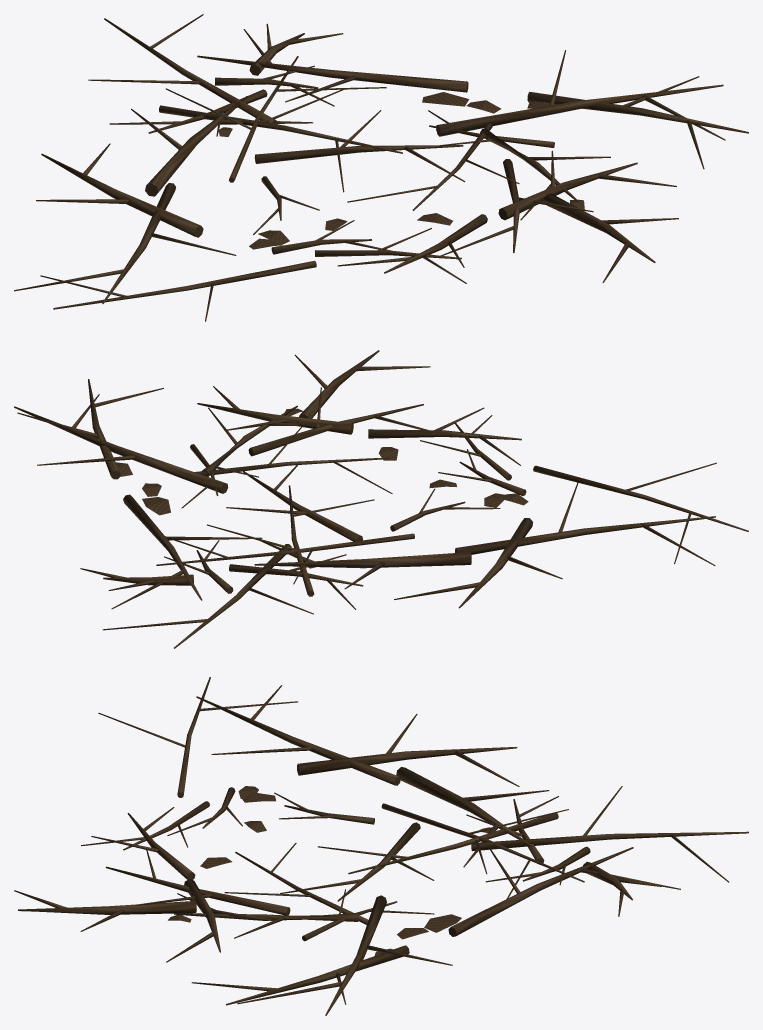
Rendered from Small_Deadwood_Scatter_02_LOD0.fbx.
3 renders of one model, top to bottom at view 1: azimuth 30°, elevation 25°; view 2: azimuth 150°, elevation 25°; view 3: azimuth 270°, elevation 25°, orthographic. The views are drawn at different scales.
Parts seen in each view (by area): view 1: Small_Deadwood_Scatter_02_LOD0_Mesh; view 2: Small_Deadwood_Scatter_02_LOD0_Mesh; view 3: Small_Deadwood_Scatter_02_LOD0_Mesh.
Part boxes in pixels (bbox=[...]): Small_Deadwood_Scatter_02_LOD0_Mesh: bbox=[14, 14, 748, 321]; Small_Deadwood_Scatter_02_LOD0_Mesh: bbox=[14, 350, 748, 648]; Small_Deadwood_Scatter_02_LOD0_Mesh: bbox=[14, 677, 748, 1015].
Bounding box in the file's own units: 196 × 4.88 × 180.
Materials: 1 (1 with a texture image).
